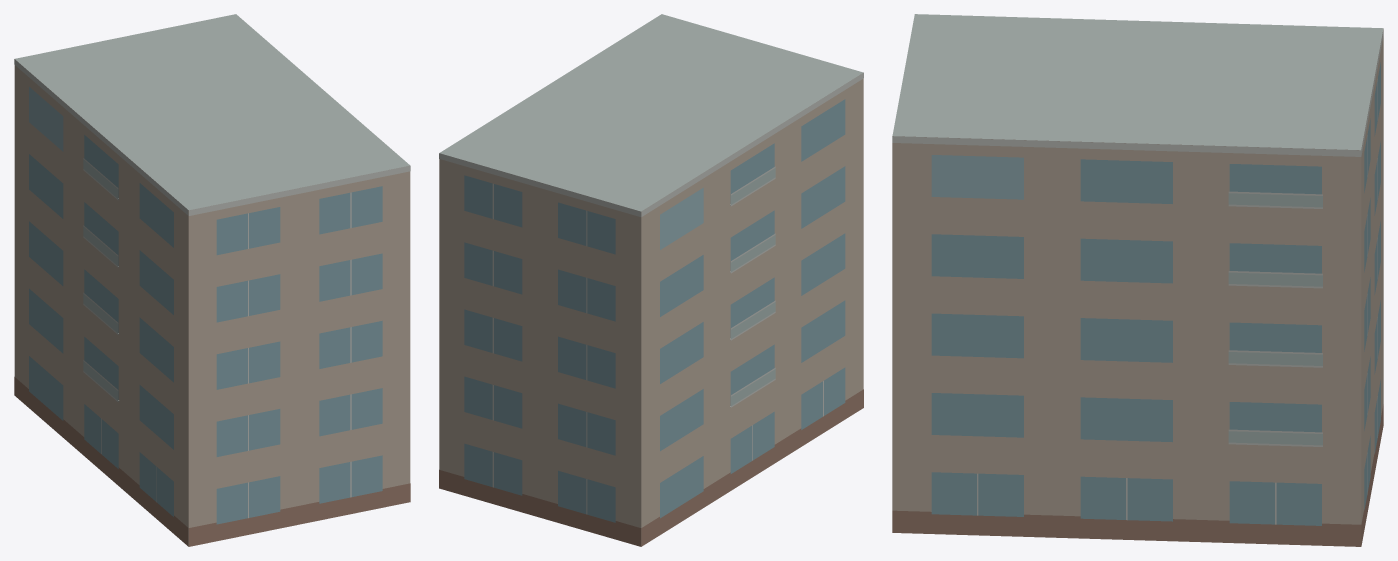
The model's file is survey-upis-32753462.glb.
3 views of the same model, side by side, from view 1: azimuth 30°, elevation 25°; view 2: azimuth 150°, elevation 25°; view 3: azimuth 270°, elevation 25° (orthographic). The views are drawn at different scales.
Visible parts, largest first — view 1: survey-upis-32753462.tmp; view 2: survey-upis-32753462.tmp; view 3: survey-upis-32753462.tmp.
Part boxes in pixels (x1,y1,x2,y2): survey-upis-32753462.tmp: (14, 14, 410, 546); survey-upis-32753462.tmp: (439, 14, 863, 546); survey-upis-32753462.tmp: (892, 14, 1383, 546).
Bounding box in the file's own units: 10.46 × 14.2 × 15.94.
